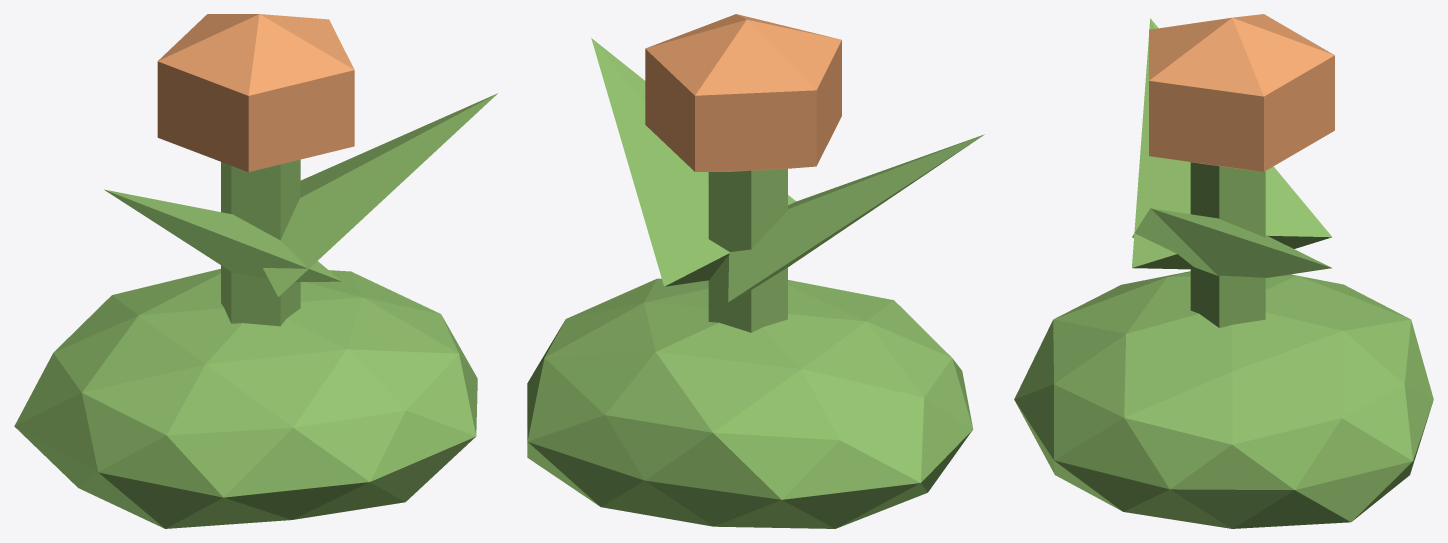
The model's file is meadow-g0.glb.
The picture shows the model from 3 angles, left to right: view 1: azimuth 30°, elevation 25°; view 2: azimuth 150°, elevation 25°; view 3: azimuth 270°, elevation 25°; orthographic projection.
Parts seen in each view (by area): view 1: meadow-g0; view 2: meadow-g0; view 3: meadow-g0.
Part boxes in pixels (x1,y1,x2,y2): meadow-g0: [14, 14, 497, 528]; meadow-g0: [527, 14, 984, 528]; meadow-g0: [1014, 14, 1433, 528].
Size of the model in its own units: 0.391 by 0.4 by 0.3536.
